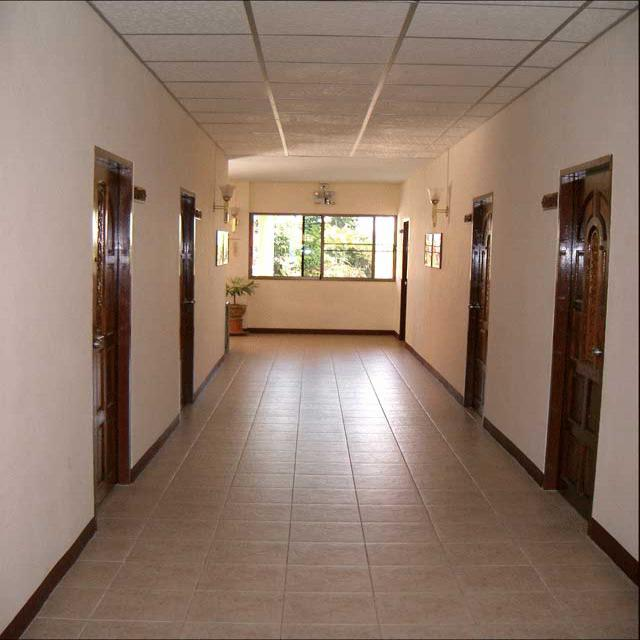2001: (82, 18, 135, 117)
adjustable lamp: (417, 91, 571, 323)
book case: (166, 169, 232, 188)
cabinet door: (216, 8, 282, 112), (144, 9, 209, 78)
chair -occluded-: (80, 187, 191, 323)
chair legs: (163, 267, 191, 321), (97, 267, 119, 322)
clock crop: (415, 29, 467, 62)
counter bottom: (65, 116, 283, 146)
door bars: (1, 1, 50, 317)
oven cloth: (170, 79, 211, 104)
painting crop: (34, 26, 64, 74), (37, 79, 64, 124), (284, 78, 310, 104), (320, 79, 343, 107)
plastic: (456, 166, 566, 280)
table -X: (159, 165, 361, 308)
table occluded: (162, 194, 186, 273), (334, 197, 358, 275), (259, 218, 274, 308)
wall clock: (277, 0, 573, 254)
wardrobe part: (344, 59, 471, 245)
